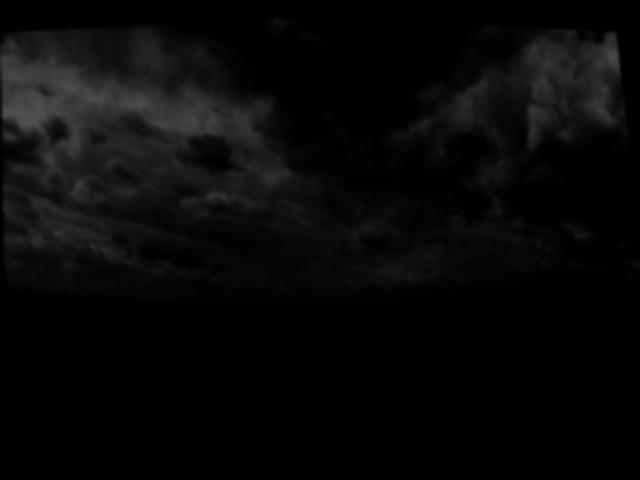hedef: (441, 179, 497, 235)
